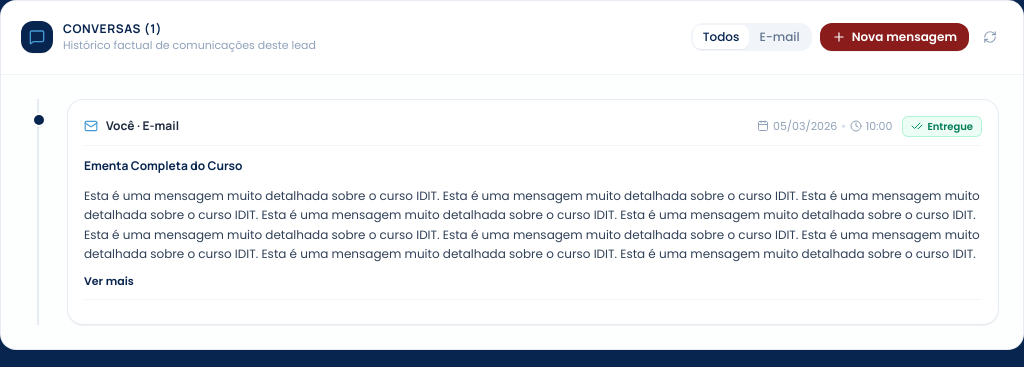
Test: Lead Profile — Conversation History (Conversas Tab) › 8. Expandable Body & Mobile Layout Stability (390px) › provides expandable toggle ("Ver mais" / "Ver menos") for lengthy emails
Step 1. Click the button "Ver mais" → (109, 280), box [84, 272, 134, 288]
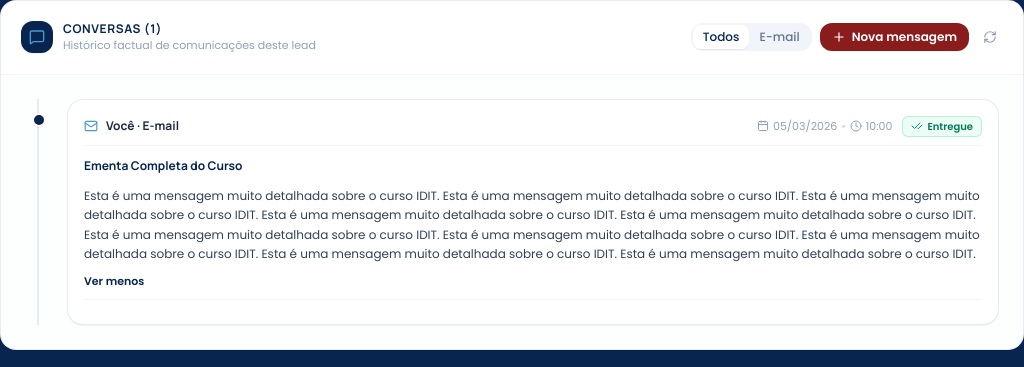
Now the button "Ver menos" is shown
Step 2. Click the button "Ver menos" → (114, 280), box [84, 272, 144, 288]
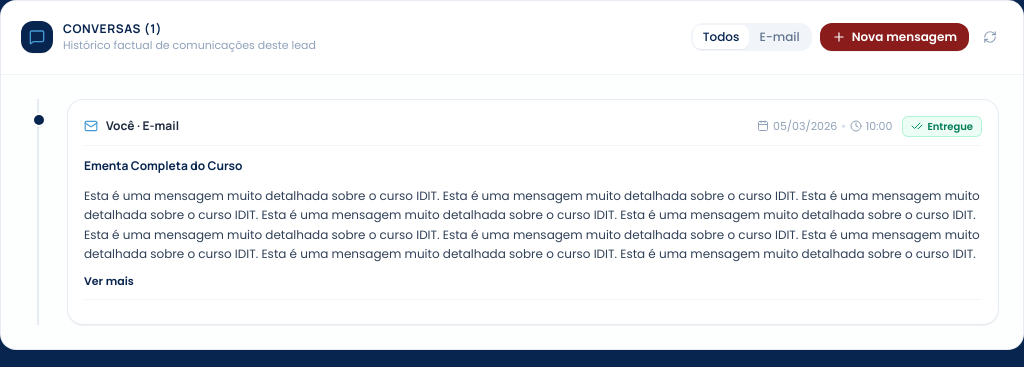
Now the button "Ver mais" is shown, box [84, 272, 134, 288]
